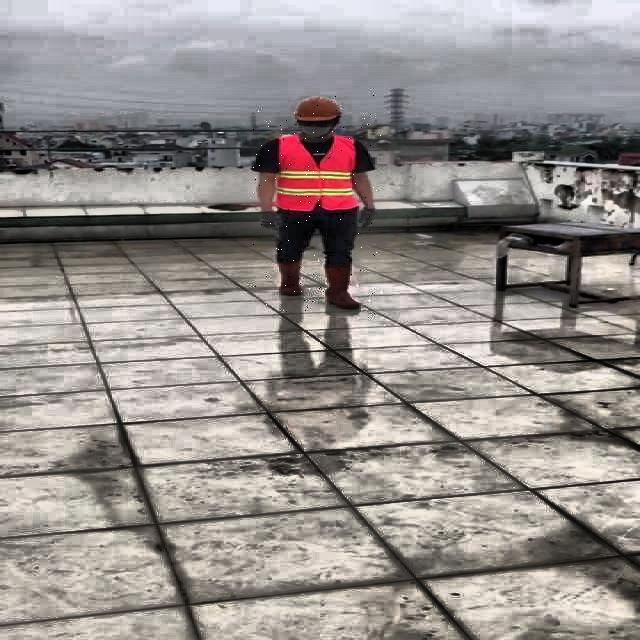safety_helmet: (294, 96, 342, 121)
safety_jacket: (276, 133, 358, 212)
